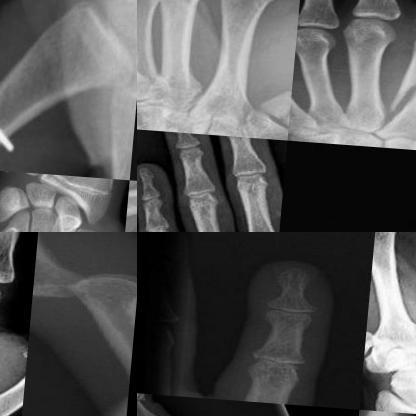fracture: (260, 72, 298, 124), (385, 46, 415, 111), (137, 391, 163, 415)
